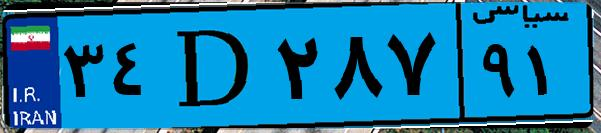1: (525, 38, 570, 115)
2: (270, 28, 330, 110)
3: (57, 26, 110, 100)
4: (110, 28, 158, 98)
7: (385, 28, 445, 110)
8: (330, 28, 385, 110)
9: (475, 38, 525, 113)
D: (158, 12, 270, 120)
